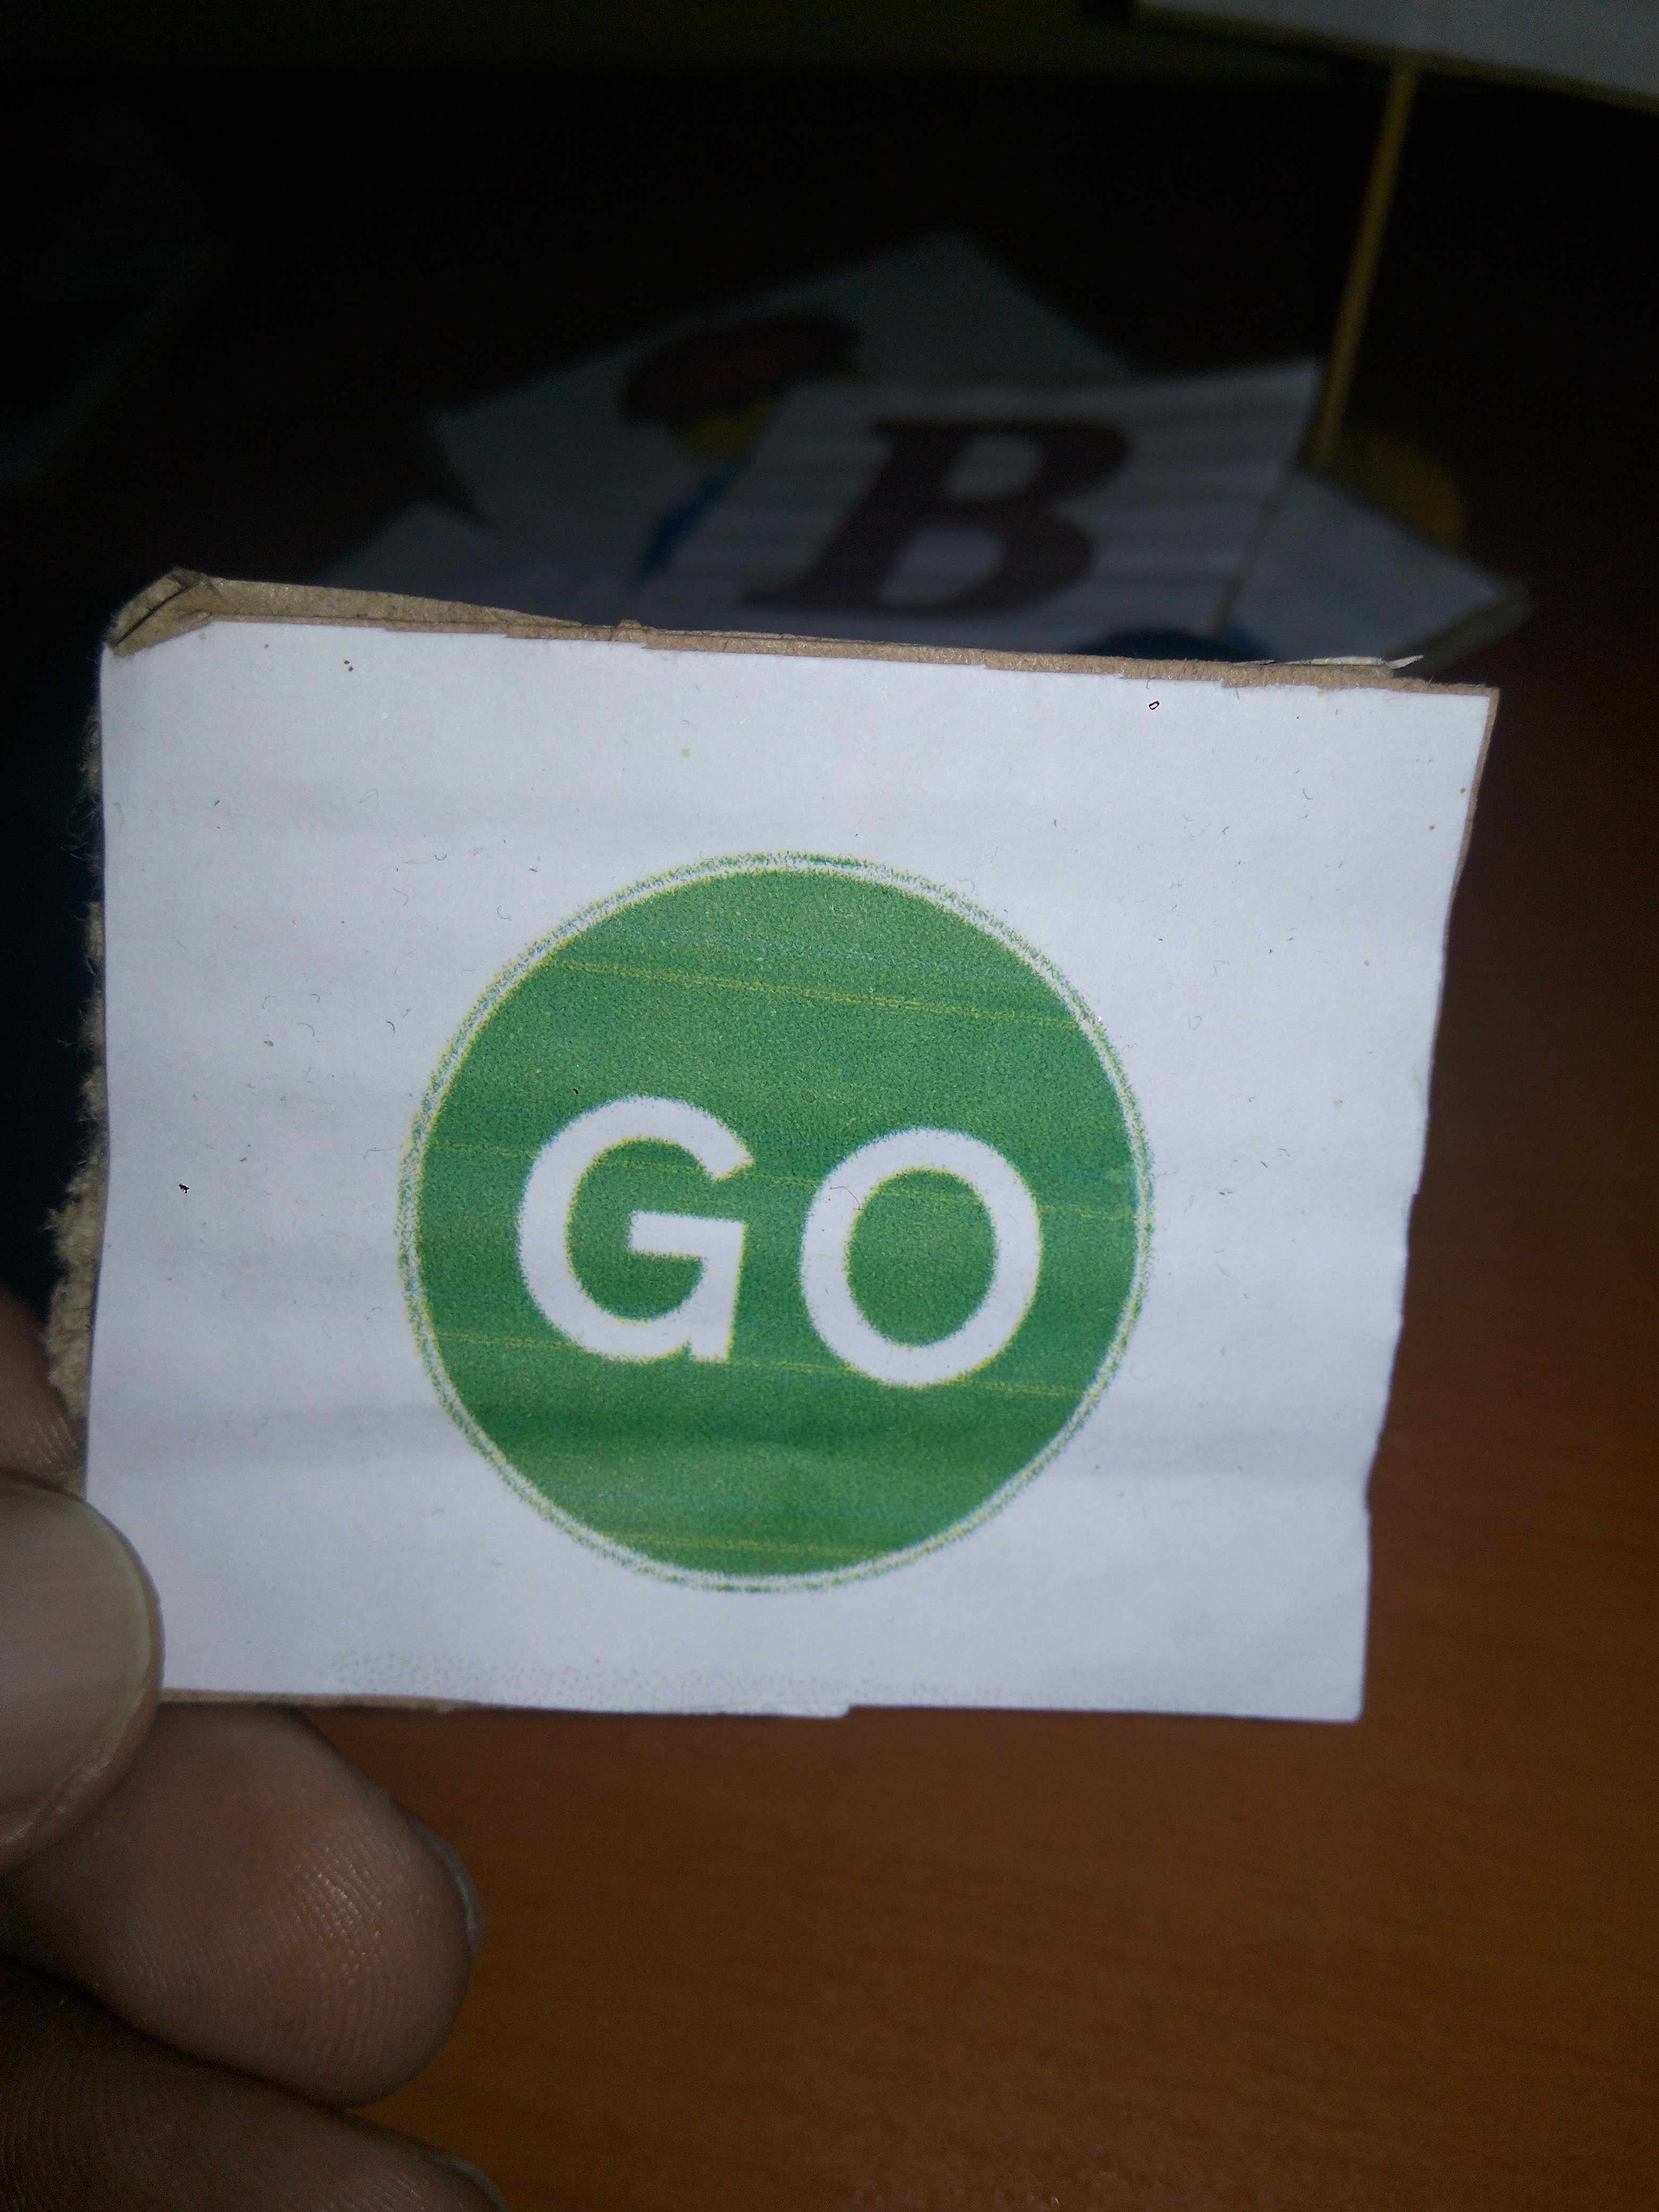go: (328, 751, 1239, 1655)
